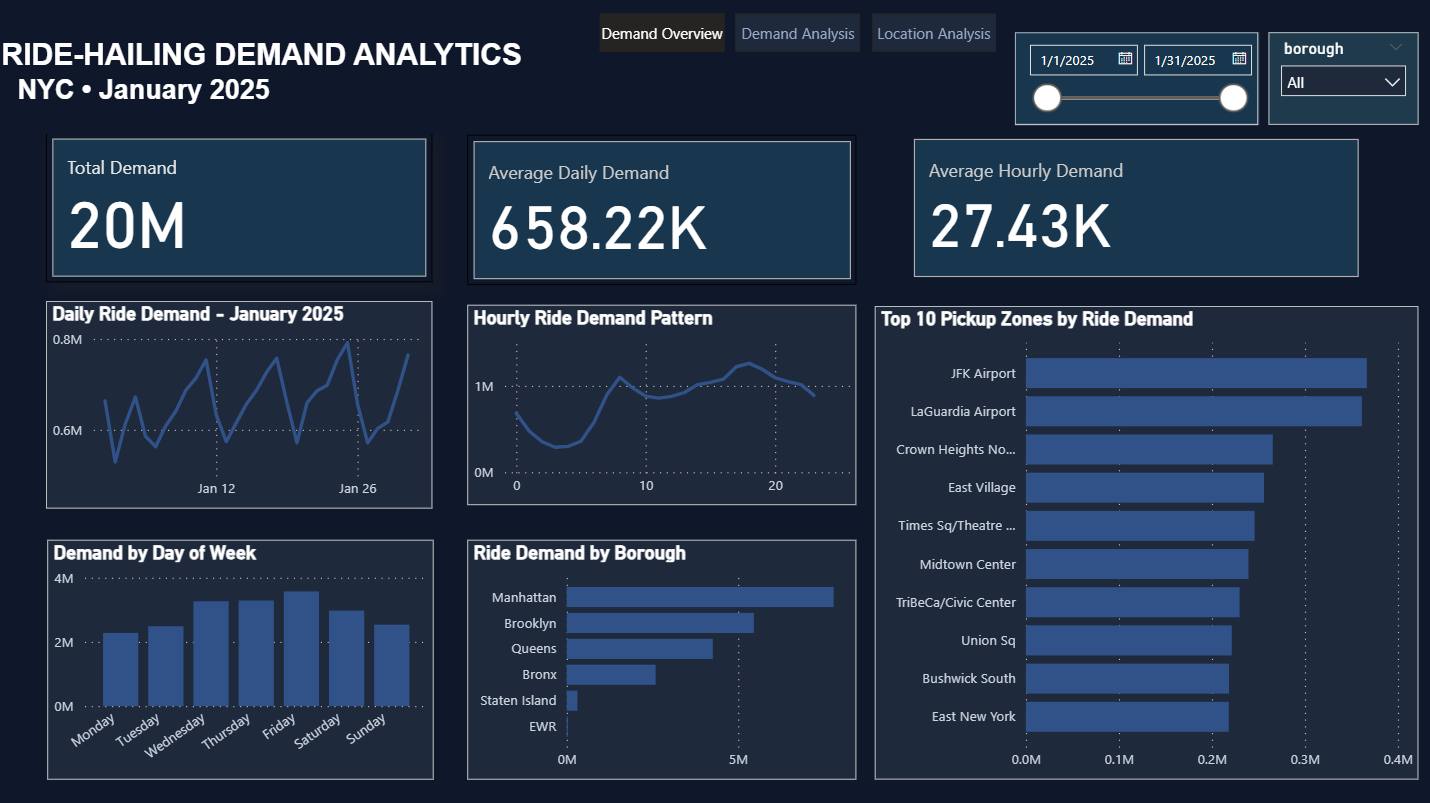

The page's visual inventory and layout, read from the dashboard file:
{"tool":"powerbi","page":{"name":"Demand Overview","canvas":[1280,720],"ordinal":0},"visuals":[{"type":"cardVisual","fields":{"Data":["public demand_hourly.Total Demand"]},"box":[44.6,121.8,343.7,133.9],"z":0},{"type":"cardVisual","fields":{"Data":["public demand_hourly.Average Daily Demand"]},"box":[419.7,123,346.1,133.9],"z":1000},{"type":"cardVisual","fields":{"Data":["public demand_hourly.Average Hourly Demand"]},"box":[812.5,122.4,406.3,133.6],"z":2000},{"type":"lineChart","title":"Daily Ride Demand - January 2025","fields":{"Category":["public demand_hourly.date.Variation.Date Hierarchy.Year","public demand_hourly.date.Variation.Date Hierarchy.Quarter","public demand_hourly.date.Variation.Date Hierarchy.Month","public demand_hourly.date.Variation.Date Hierarchy.Day"],"Y":["public demand_hourly.Total Demand"]},"box":[44.6,271.4,343.7,184.5],"z":3000},{"type":"lineChart","title":"Hourly Ride Demand Pattern","fields":{"Category":["public demand_hourly.hour"],"Y":["public demand_hourly.Total Demand"]},"box":[419.7,275,346.1,178.5],"z":4000},{"type":"clusteredColumnChart","title":"Demand by Day of Week","fields":{"Category":["public demand_hourly.day_of_week"],"Y":["public demand_hourly.Total Demand"]},"box":[45.8,483.6,343.7,213.5],"z":5000},{"type":"clusteredBarChart","title":"Ride Demand by Borough","fields":{"Category":["public demand_hourly.borough"],"Y":["public demand_hourly.Total Demand"]},"box":[419.7,483.6,346.1,213.5],"z":6000},{"type":"clusteredBarChart","title":"Top 10 Pickup Zones by Ride Demand","fields":{"Category":["public demand_hourly.zone"],"Y":["public demand_hourly.Total Demand"]},"box":[781.9,275.5,484.2,421.6],"z":7000},{"type":"textbox","box":[31.4,20.5,576.5,91.7],"z":8000},{"type":"slicer","fields":{"Values":["public demand_hourly.borough"]},"box":[1132.5,32,133.6,82.1],"z":9000},{"type":"pageNavigator","box":[537,15.3,353.4,34.8],"z":11000},{"type":"slicer","fields":{"Values":["public demand_hourly.date"]},"box":[907.1,32,217,82.1],"z":12000}]}

Visuals, with their boxes in screenshot pixels (x1, y1, x2, y2), scaled from the page's 1280x720 canvas onto the 1430x803 screenshot:
cardVisual - public demand_hourly.Total Demand: x1=50 y1=136 x2=434 y2=285
cardVisual - public demand_hourly.Average Daily Demand: x1=469 y1=137 x2=856 y2=287
cardVisual - public demand_hourly.Average Hourly Demand: x1=908 y1=137 x2=1362 y2=286
"Daily Ride Demand - January 2025" lineChart: x1=50 y1=303 x2=434 y2=508
"Hourly Ride Demand Pattern" lineChart: x1=469 y1=307 x2=856 y2=506
"Demand by Day of Week" clusteredColumnChart: x1=51 y1=539 x2=435 y2=777
"Ride Demand by Borough" clusteredBarChart: x1=469 y1=539 x2=856 y2=777
"Top 10 Pickup Zones by Ride Demand" clusteredBarChart: x1=874 y1=307 x2=1414 y2=777
textbox: x1=35 y1=23 x2=679 y2=125
slicer - public demand_hourly.borough: x1=1265 y1=36 x2=1414 y2=127
pageNavigator: x1=600 y1=17 x2=995 y2=56
slicer - public demand_hourly.date: x1=1013 y1=36 x2=1256 y2=127
